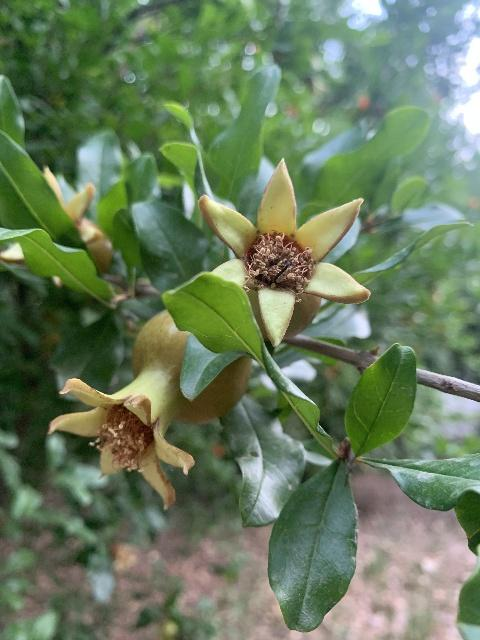early-fruit: (47, 309, 252, 511), (197, 158, 370, 348)
